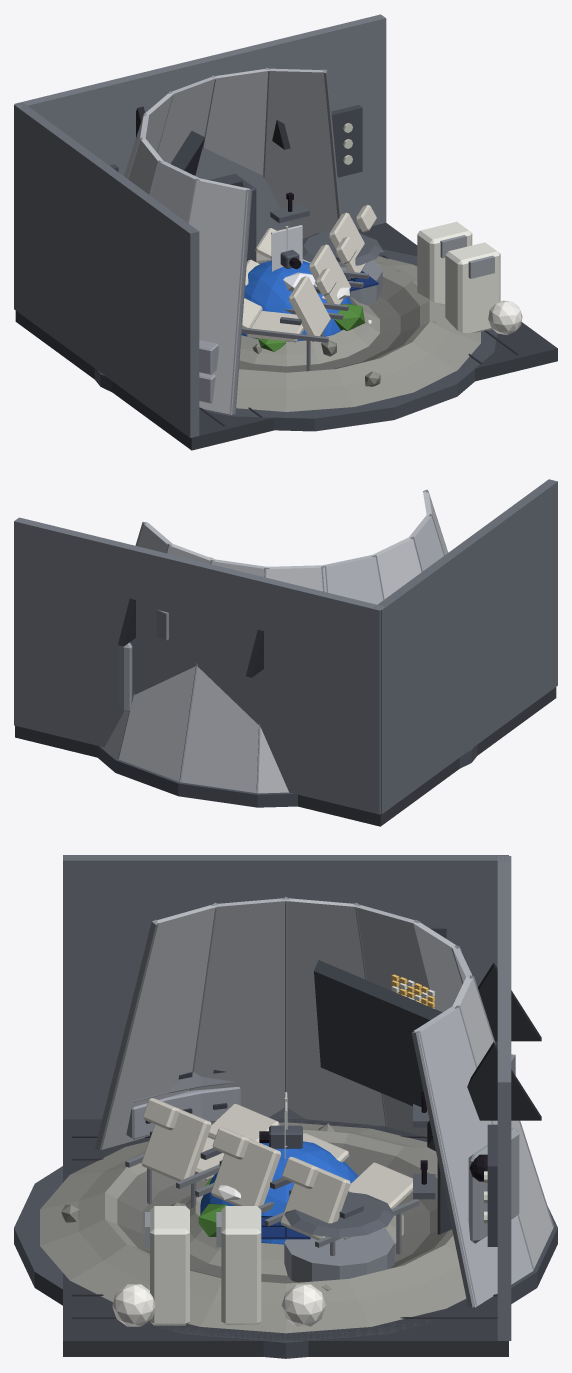
The model's file is apollo-11.glb.
3 views of the same model, one above another, from view 1: azimuth 30°, elevation 25°; view 2: azimuth 150°, elevation 25°; view 3: azimuth 270°, elevation 25° (orthographic). The views are drawn at different scales.
Visible parts, largest first — view 1: lm_interior, cm_interior, crater_large, earth, crater_small, swc; view 2: lm_interior, cm_interior; view 3: cm_interior, lm_interior, crater_large, earth, crater_small, tv_camera, psep.
Part boxes in pixels (x1,y1,x2,y2): lm_interior: (14, 14, 557, 450); cm_interior: (94, 67, 497, 431); crater_large: (236, 252, 480, 411); earth: (241, 260, 371, 351); crater_small: (239, 296, 379, 366); swc: (271, 225, 302, 271); lm_interior: (14, 479, 557, 826); cm_interior: (97, 489, 477, 807); cm_interior: (14, 897, 557, 1358); lm_interior: (63, 855, 541, 1356); crater_large: (40, 1122, 466, 1333); earth: (198, 1141, 358, 1244); crater_small: (170, 1195, 403, 1275); tv_camera: (259, 1125, 302, 1148); psep: (261, 1146, 310, 1239).
Size of the model in its own units: 6.1 by 4.24 by 6.1.
